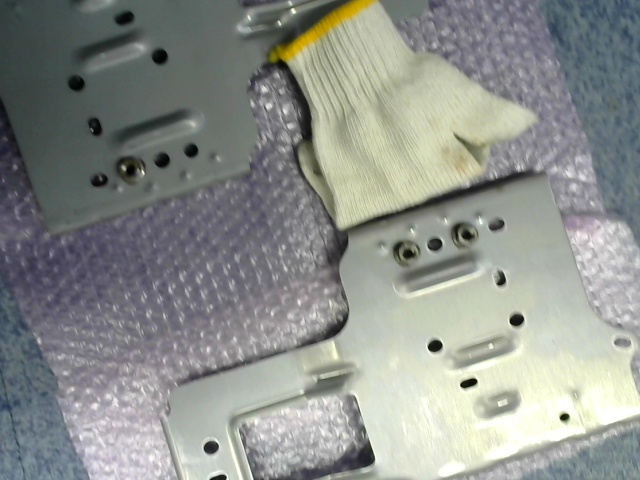dog: (393, 239, 423, 269), (116, 156, 145, 186), (451, 221, 479, 249)
